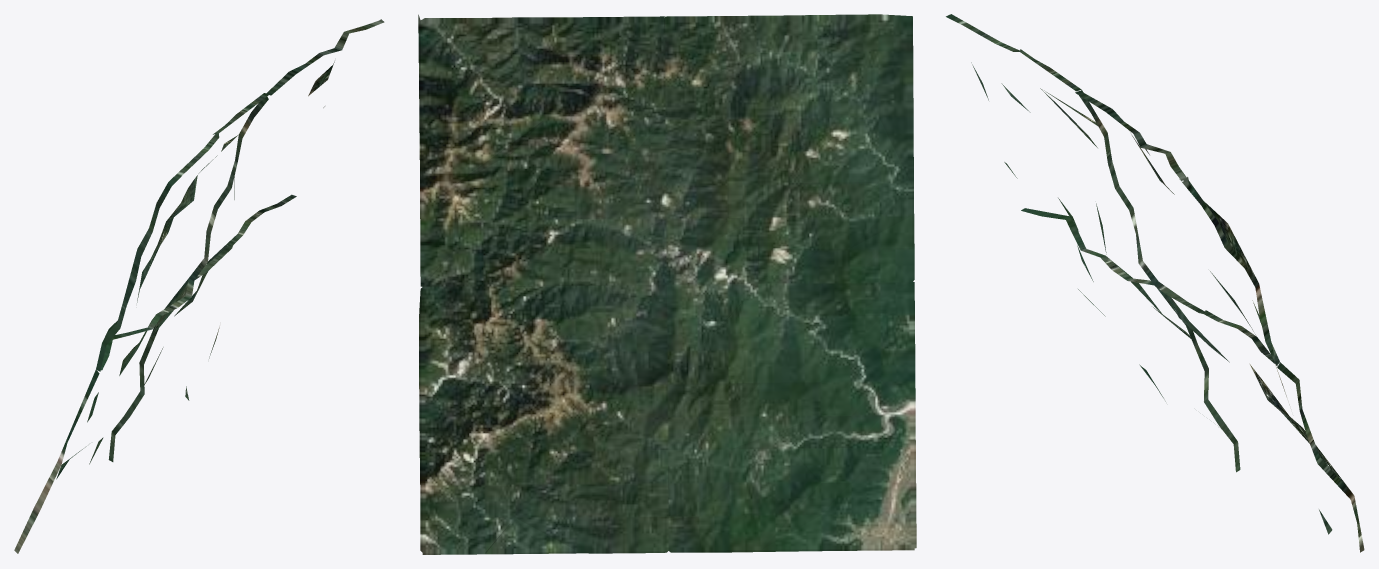
3 views of the same model, side by side, from view 1: azimuth 30°, elevation 25°; view 2: azimuth 150°, elevation 25°; view 3: azimuth 270°, elevation 25° (orthographic). The views are drawn at different scales.
Bounding box in the file's own units: 38811 × 37304 × 32860.
Materials: 1 (1 with a texture image).
